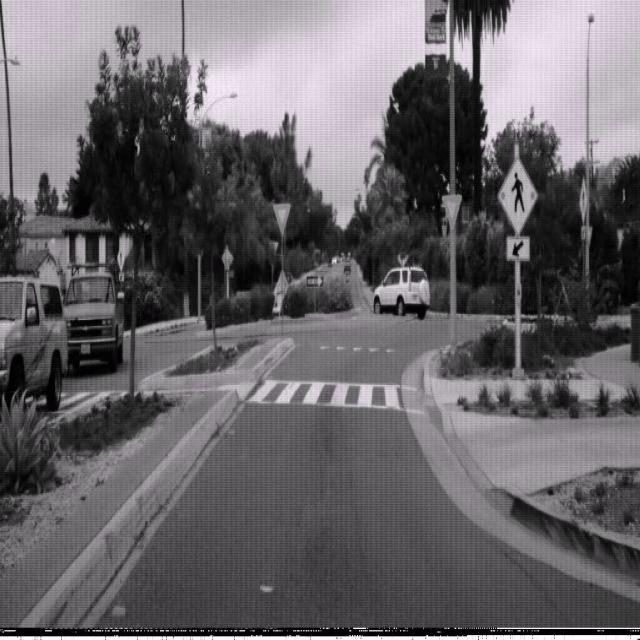pedestrianCrossing: (497, 154, 539, 236)
yield: (442, 192, 462, 230), (272, 201, 290, 233)
